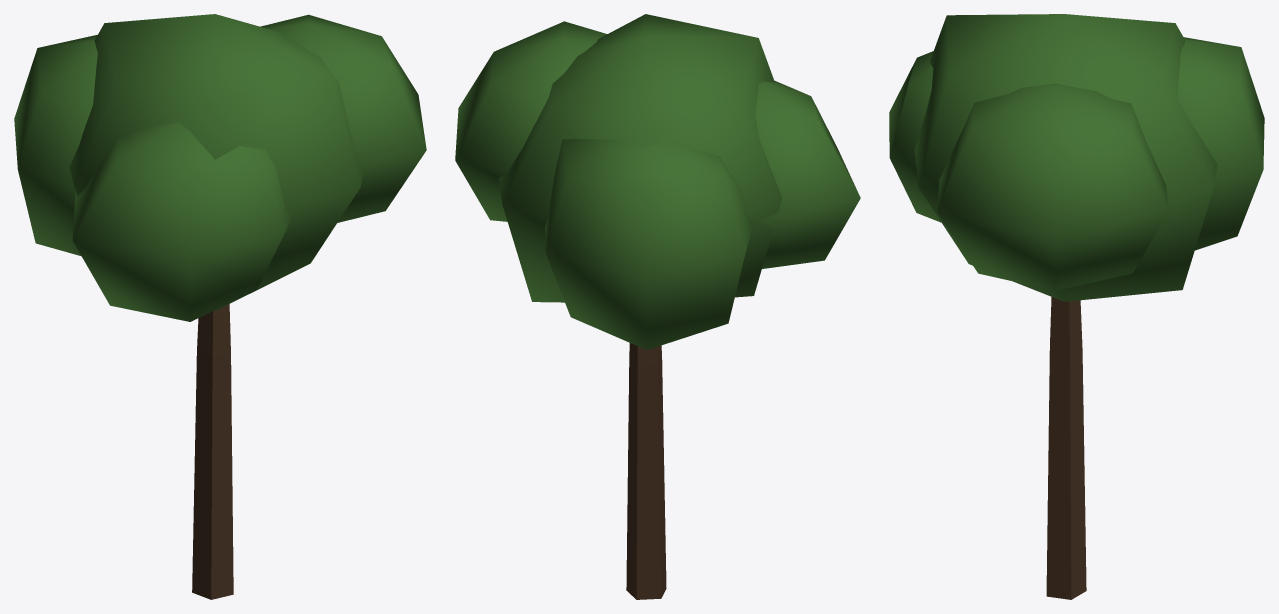
The picture shows the model from 3 angles, left to right: view 1: azimuth 30°, elevation 25°; view 2: azimuth 150°, elevation 25°; view 3: azimuth 270°, elevation 25°; orthographic projection. The views are drawn at different scales.
Visible parts, largest first — view 1: 树_02; view 2: 树_02; view 3: 树_02.
Part boxes in pixels (x1,y1,x2,y2): 树_02: [14, 14, 426, 599]; 树_02: [455, 14, 860, 599]; 树_02: [889, 14, 1264, 599].
Bounding box in the file's own units: 4.57 × 6.6 × 3.88.
